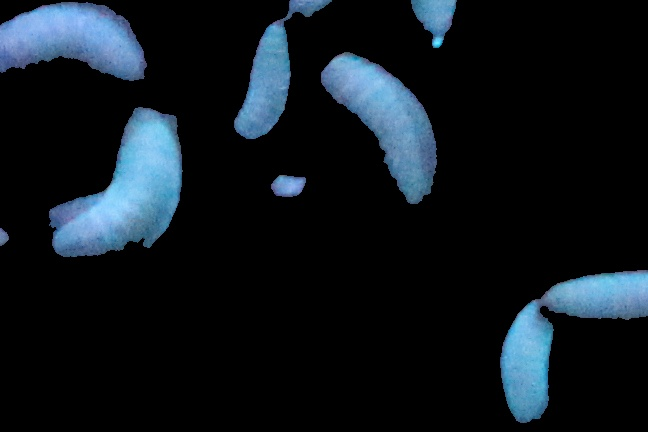larvae: (51, 108, 185, 256), (319, 53, 438, 208), (1, 1, 146, 89), (494, 299, 558, 421), (233, 19, 291, 142), (542, 262, 648, 318)
